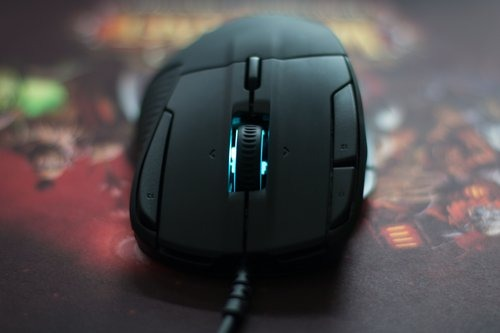mouse: (117, 14, 376, 287)
